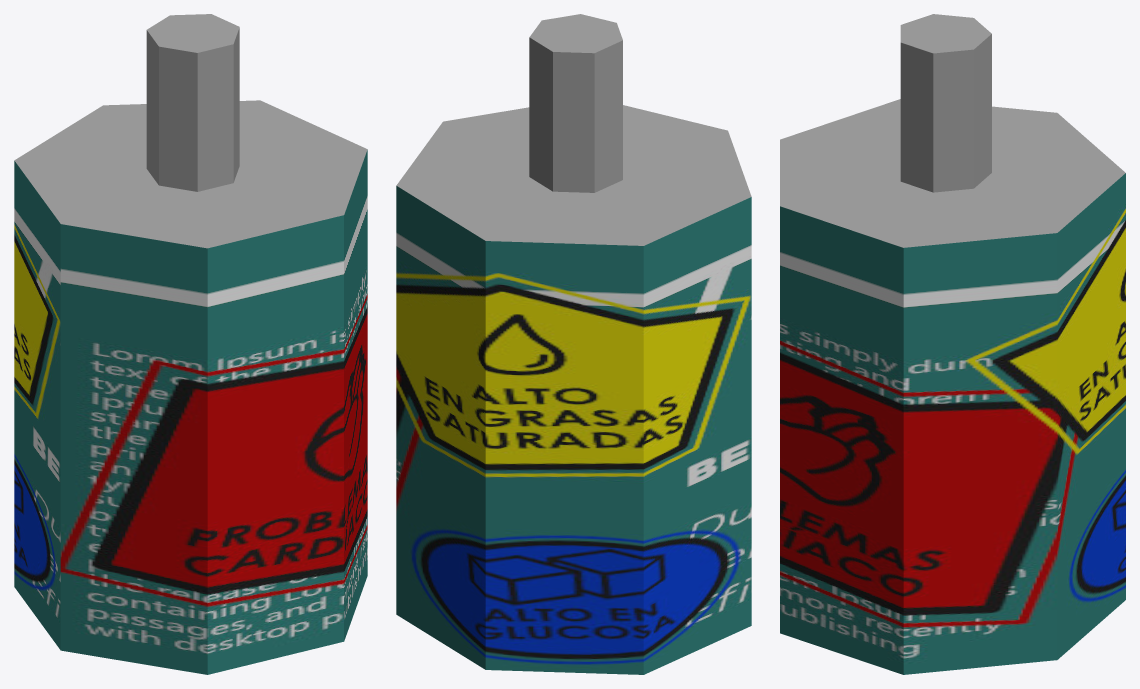
File: Botella_00.fbx
3 views of the same model, side by side, from view 1: azimuth 30°, elevation 25°; view 2: azimuth 150°, elevation 25°; view 3: azimuth 270°, elevation 25° (orthographic).
Parts seen in each view (by area): view 1: Circle.001; view 2: Circle.001; view 3: Circle.001.
Boxes of the visible parts, x1,y1,x2,y2 form: Circle.001: (14,14,367,674); Circle.001: (396,14,751,674); Circle.001: (780,14,1125,674).
Bounding box in the file's own units: 195 × 343 × 190.
Materials: 2 (1 with a texture image).
